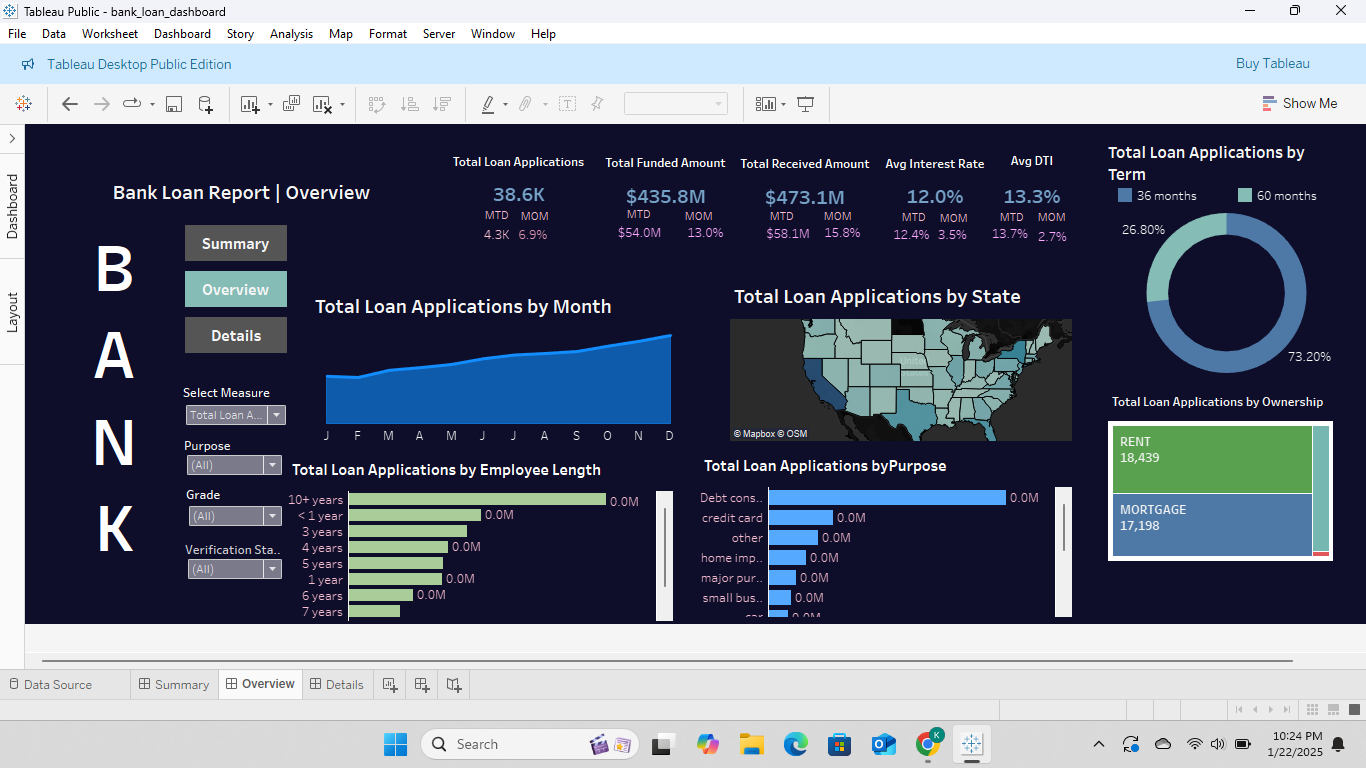

The dashboard page shown, as its layout file describes it:
{"tool":"tableau","page":{"name":"Overview","canvas":[1400,500],"ordinal":1},"visuals":[{"type":"worksheet","title":"term","mark":"Pie","rows":["Calculation_381117157252890635","Calculation_381117157252890635"],"box":[1079,13,245,253]},{"type":"worksheet","title":"avg DTI","mark":"Automatic","box":[926,24,162,62]},{"type":"worksheet","title":"total_loan_applications","mark":"Automatic","box":[418,25,151,55]},{"type":"worksheet","title":"total_funded_amount","mark":"Automatic","box":[565,26,151,58]},{"type":"worksheet","title":"total_amount_received","mark":"Automatic","box":[693,27,174,57]},{"type":"worksheet","title":"avg interest rate","mark":"Automatic","box":[826,27,168,55]},{"type":"text","box":[74,52,285,30]},{"type":"legend","title":"term","param":"[federated.0u4nhs11hb3evv12lf0sh1rm0hka].[none:term:nk]","box":[1090,61,246,32]},{"type":"text","box":[599,80,33,20]},{"type":"text","box":[457,81,34,20]},{"type":"text","box":[493,82,34,20]},{"type":"text","box":[657,82,33,20]},{"type":"text","box":[742,82,33,20]},{"type":"text","box":[796,82,33,20]},{"type":"text","box":[874,83,34,20]},{"type":"text","box":[972,83,34,20]},{"type":"text","box":[1010,83,33,20]},{"type":"text","box":[912,84,33,20]},{"type":"worksheet","title":"MTD total funded amount","mark":"Automatic","box":[589,88,64,40]},{"type":"worksheet","title":"MTD avg DTI","mark":"Automatic","box":[963,92,68,34]},{"type":"worksheet","title":"MoM total funded amount","mark":"Automatic","box":[658,93,61,29]},{"type":"worksheet","title":"MoM avg dti","mark":"Automatic","box":[1009,93,56,37]},{"type":"worksheet","title":"MoM total amount received","mark":"Automatic","box":[795,95,51,25]},{"type":"worksheet","title":"MoM avg in rate","mark":"Automatic","box":[909,96,60,28]},{"type":"worksheet","title":"MTD avg interest rate","mark":"Automatic","box":[864,97,65,25]},{"type":"worksheet","title":"MoM Loan Applications","mark":"Automatic","box":[489,98,41,23]},{"type":"worksheet","title":"MTD total amount received","mark":"Automatic","box":[737,98,61,21]},{"type":"dashboard-object","box":[160,101,102,36]},{"type":"worksheet","title":"MTD Loan Applications","mark":"Automatic","box":[455,101,42,17]},{"type":"dashboard-object","box":[160,147,102,36]},{"type":"worksheet","title":"state","mark":"Multipolygon","box":[705,154,342,163]},{"type":"worksheet","title":"month","mark":"Area","rows":["Calculation_381117157237497865","Calculation_381117157237497865"],"cols":["issue_date"],"box":[286,164,375,157]},{"type":"dashboard-object","box":[160,193,102,36]},{"type":"parameter","param":"[Parameters].[Parameter 1]","box":[158,260,106,46]},{"type":"worksheet","title":"Home ownership","mark":"Automatic","box":[1083,265,225,221]},{"type":"filter","title":"MTD Loan Applications","param":"[federated.0u4nhs11hb3evv12lf0sh1rm0hka].[none:purpose:nk]","box":[159,313,101,39]},{"type":"worksheet","title":"purpose","mark":"Automatic","rows":["purpose"],"cols":["Calculation_381117157237497865"],"box":[675,327,372,166]},{"type":"worksheet","title":"emp length","mark":"Automatic","rows":["emp_length"],"cols":["Calculation_381117157237497865"],"box":[263,331,385,166]},{"type":"filter","title":"MTD Loan Applications","param":"[federated.0u4nhs11hb3evv12lf0sh1rm0hka].[none:grade:nk]","box":[161,362,99,42]},{"type":"filter","title":"MTD Loan Applications","param":"[federated.0u4nhs11hb3evv12lf0sh1rm0hka].[none:verification_status:nk]","box":[160,417,100,38]}]}

Visuals, with their boxes on the page's 1400x500 design canvas (x1, y1, x2, y2). These are canvas units, not pixel positions in the 1366x768 screenshot, which may show the page scaled, cropped or inside an application window:
"term" worksheet (Pie marks): locate(1079, 13, 1324, 266)
"avg DTI" worksheet: locate(926, 24, 1088, 86)
"total_loan_applications" worksheet: locate(418, 25, 569, 80)
"total_funded_amount" worksheet: locate(565, 26, 716, 84)
"total_amount_received" worksheet: locate(693, 27, 867, 84)
"avg interest rate" worksheet: locate(826, 27, 994, 82)
text: locate(74, 52, 359, 82)
"term" legend: locate(1090, 61, 1336, 93)
text: locate(599, 80, 632, 100)
text: locate(457, 81, 491, 101)
text: locate(493, 82, 527, 102)
text: locate(657, 82, 690, 102)
text: locate(742, 82, 775, 102)
text: locate(796, 82, 829, 102)
text: locate(874, 83, 908, 103)
text: locate(972, 83, 1006, 103)
text: locate(1010, 83, 1043, 103)
text: locate(912, 84, 945, 104)
"MTD total funded amount" worksheet: locate(589, 88, 653, 128)
"MTD avg DTI" worksheet: locate(963, 92, 1031, 126)
"MoM total funded amount" worksheet: locate(658, 93, 719, 122)
"MoM avg dti" worksheet: locate(1009, 93, 1065, 130)
"MoM total amount received" worksheet: locate(795, 95, 846, 120)
"MoM avg in rate" worksheet: locate(909, 96, 969, 124)
"MTD avg interest rate" worksheet: locate(864, 97, 929, 122)
"MoM Loan Applications" worksheet: locate(489, 98, 530, 121)
"MTD total amount received" worksheet: locate(737, 98, 798, 119)
dashboard-object: locate(160, 101, 262, 137)
"MTD Loan Applications" worksheet: locate(455, 101, 497, 118)
dashboard-object: locate(160, 147, 262, 183)
"state" worksheet (Multipolygon marks): locate(705, 154, 1047, 317)
"month" worksheet (Area marks): locate(286, 164, 661, 321)
dashboard-object: locate(160, 193, 262, 229)
parameter: locate(158, 260, 264, 306)
"Home ownership" worksheet: locate(1083, 265, 1308, 486)
"MTD Loan Applications" filter: locate(159, 313, 260, 352)
"purpose" worksheet: locate(675, 327, 1047, 493)
"emp length" worksheet: locate(263, 331, 648, 497)
"MTD Loan Applications" filter: locate(161, 362, 260, 404)
"MTD Loan Applications" filter: locate(160, 417, 260, 455)
